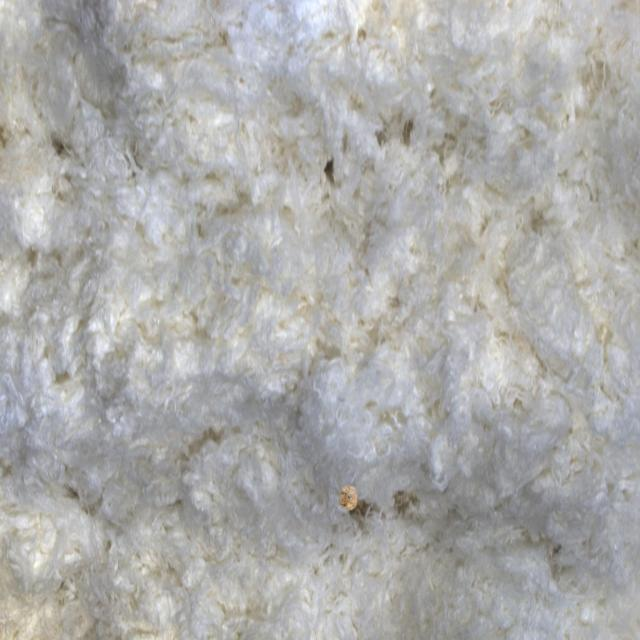dust: (327, 470, 370, 534)
